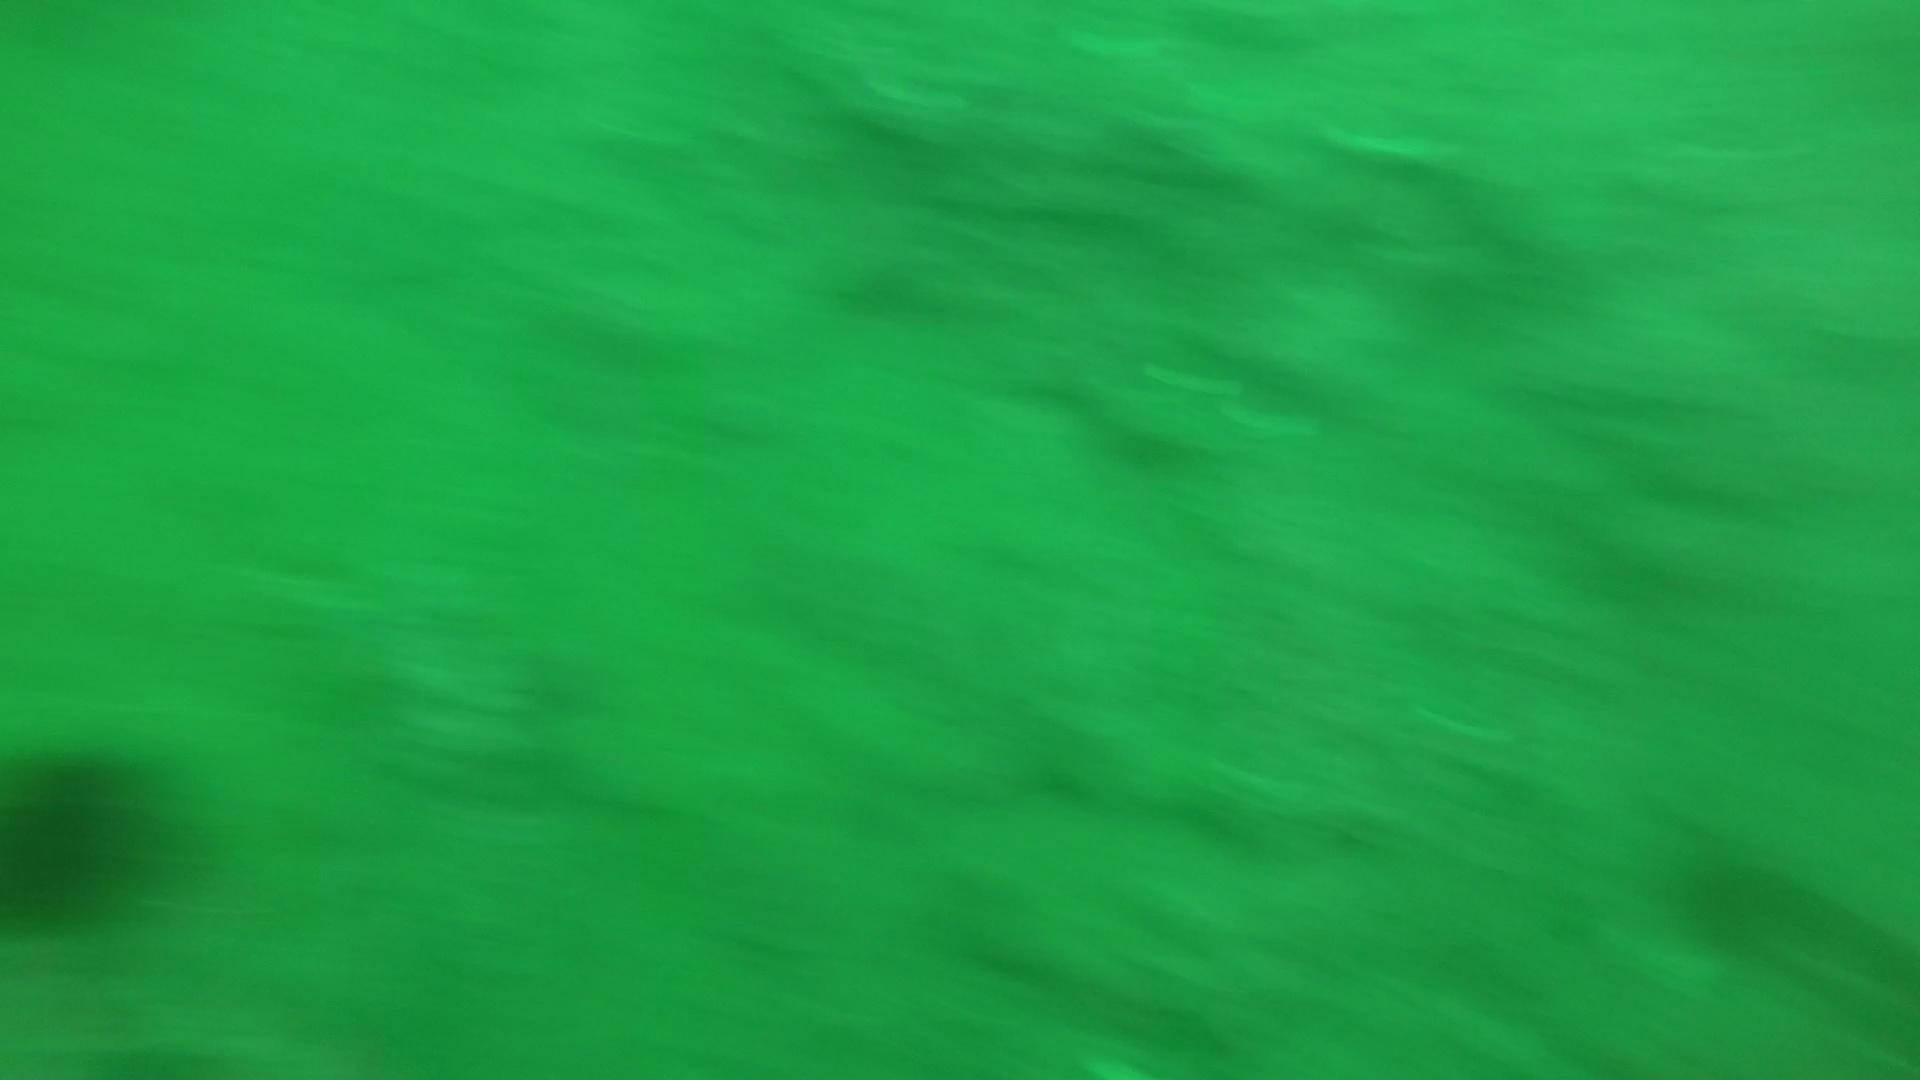echinus: (1, 735, 182, 938), (1662, 837, 1791, 957)
